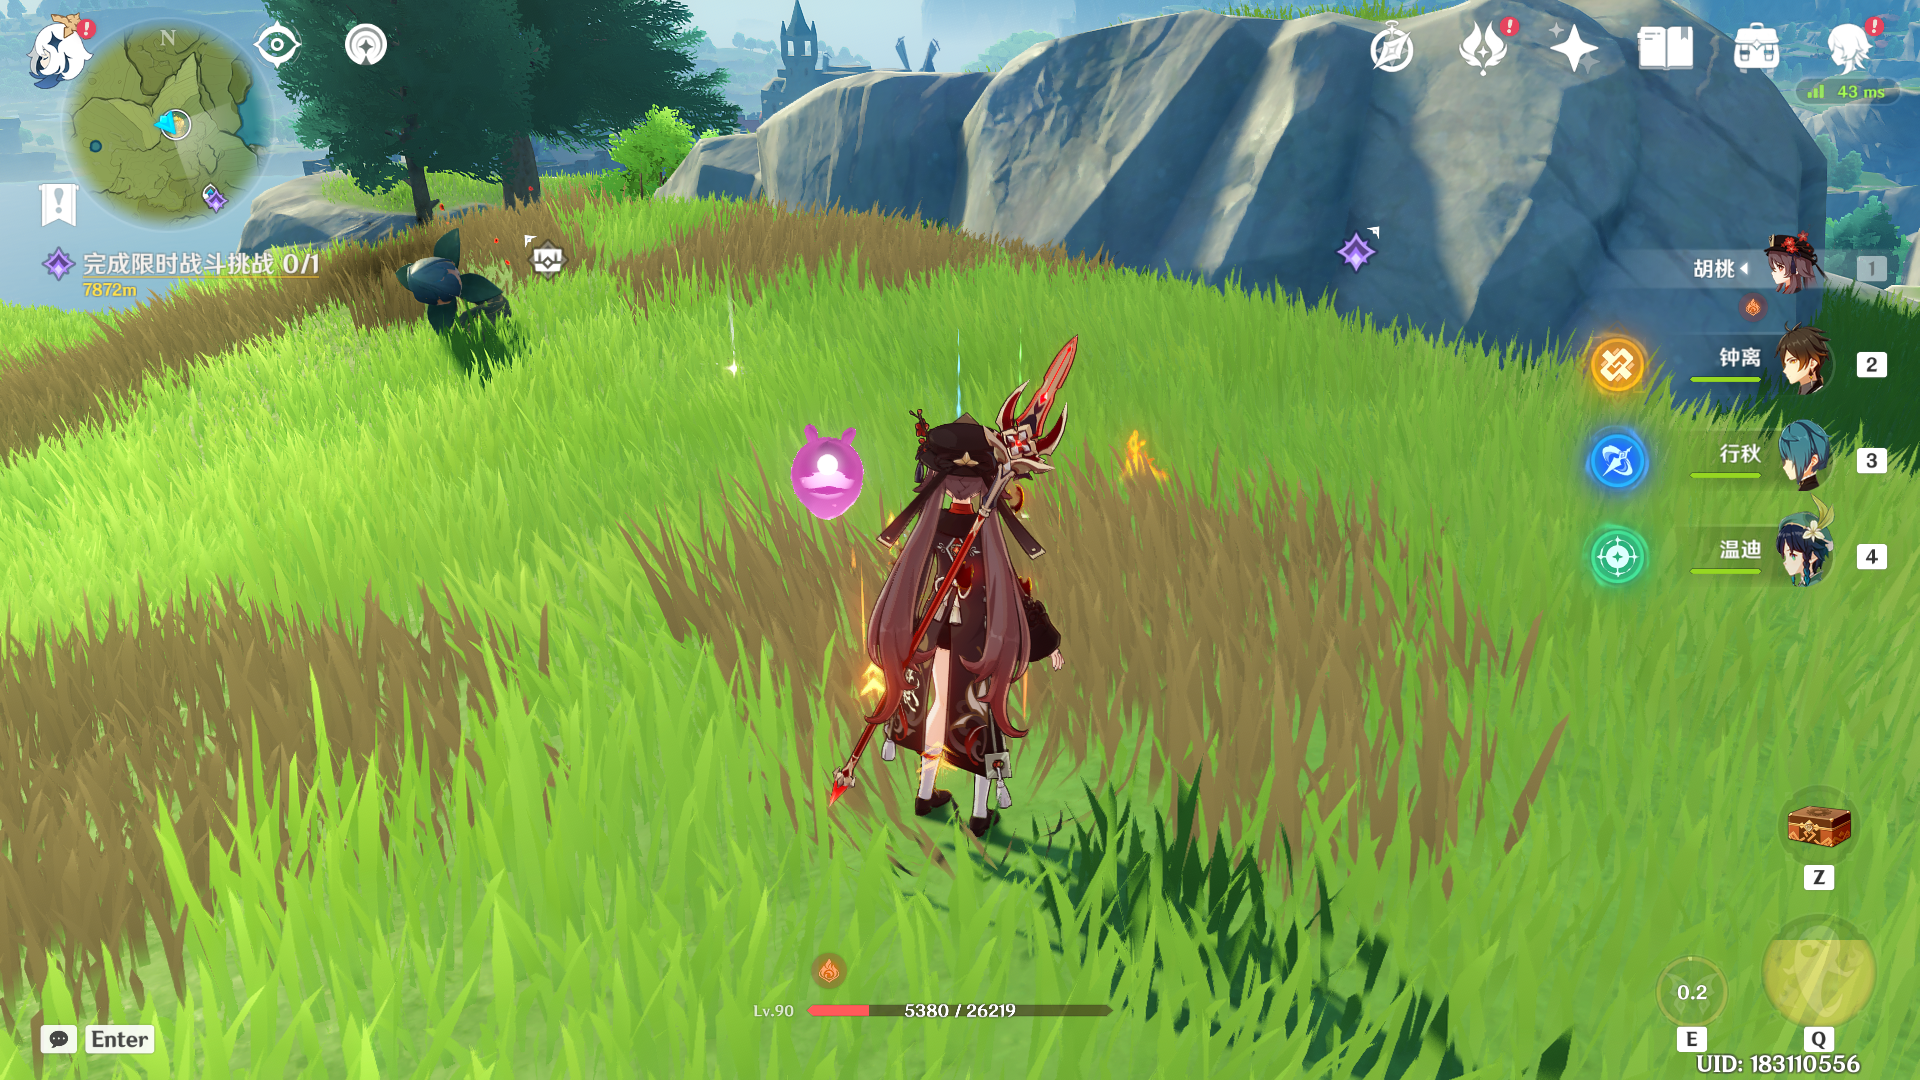character: (794, 388, 1109, 851)
